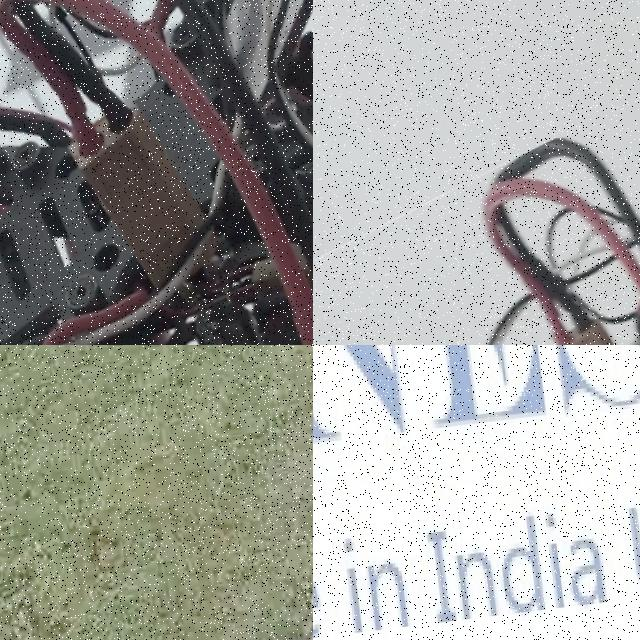drone: (0, 0, 313, 345), (313, 98, 640, 345)
